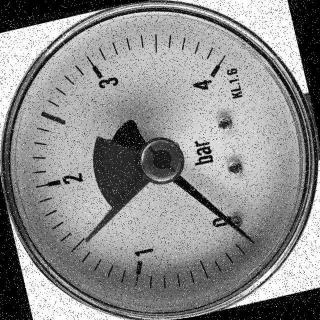gauge: (2, 1, 320, 320), (132, 132, 188, 188), (226, 218, 268, 256), (194, 57, 232, 89), (242, 231, 260, 248), (80, 232, 98, 248)
